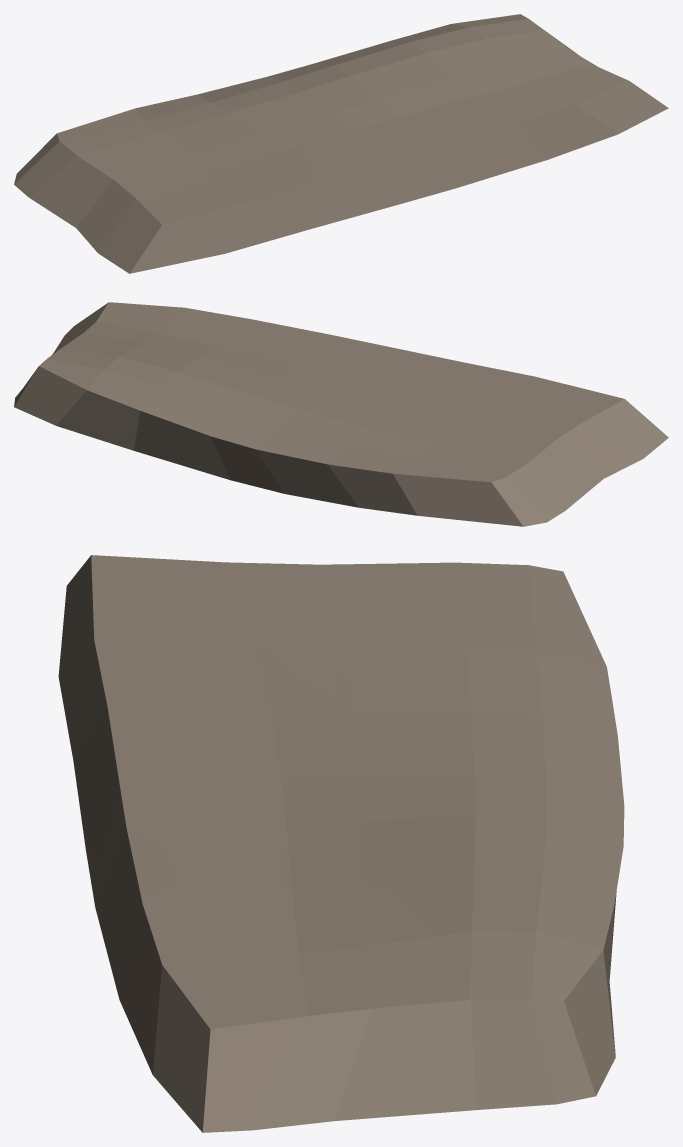
File: Flatstone02.fbx
3 views of the same model, one above another, from view 1: azimuth 30°, elevation 25°; view 2: azimuth 150°, elevation 25°; view 3: azimuth 270°, elevation 25° (orthographic). The views are drawn at different scales.
Visible parts, largest first — view 1: pCube28; view 2: pCube28; view 3: pCube28.
Boxes of the visible parts, x1=… form: pCube28: x1=14, y1=14, x2=668, y2=273; pCube28: x1=14, y1=302, x2=668, y2=526; pCube28: x1=58, y1=555, x2=624, y2=1132.
Bounding box in the file's own units: 2241 × 250 × 975.
